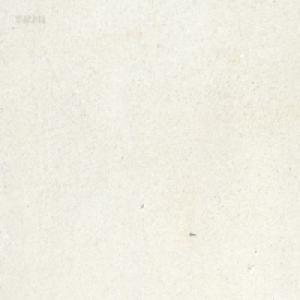Nail: (189, 231, 196, 236)
